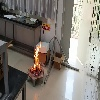fire: (31, 40, 41, 72)
